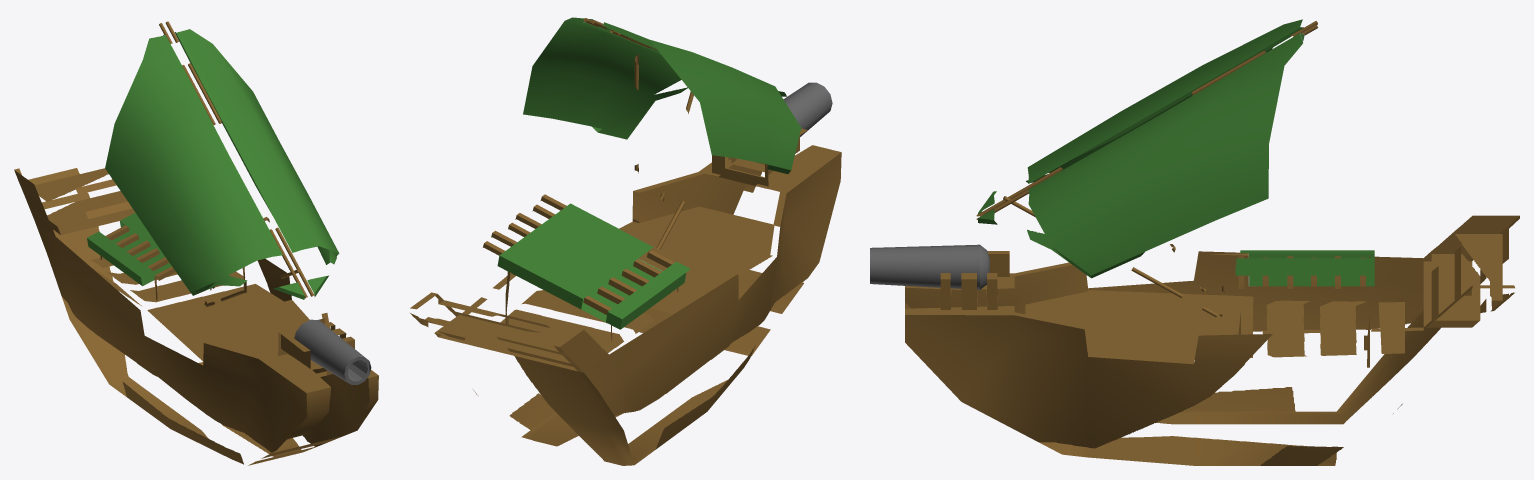
File: Bomber Unit.fbx
The picture shows the model from 3 angles, left to right: view 1: azimuth 30°, elevation 25°; view 2: azimuth 150°, elevation 25°; view 3: azimuth 270°, elevation 25°; orthographic projection. The views are drawn at different scales.
Parts seen in each view (by area): view 1: Bombeer; view 2: Bombeer; view 3: Bombeer.
Part boxes in pixels (x1,y1,x2,y2): Bombeer: (14,21,378,465); Bombeer: (410,17,841,465); Bombeer: (870,19,1519,465).
Bounding box in the file's own units: 1.35 × 4.14 × 2.96.
